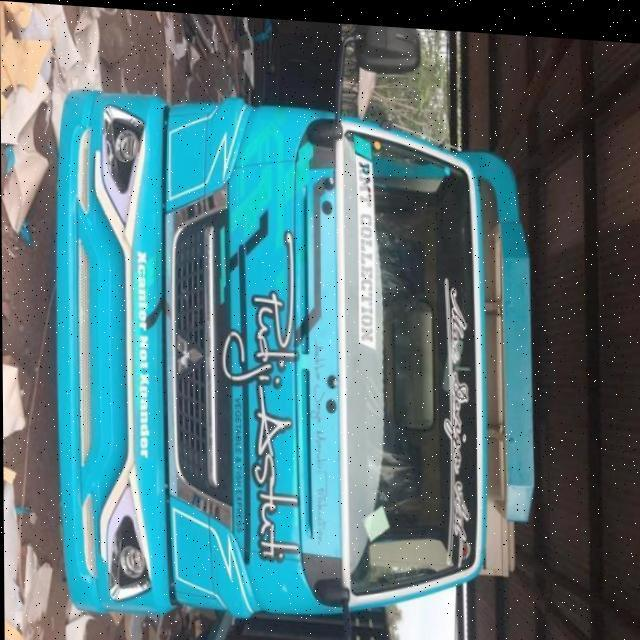truck: (52, 4, 534, 635)
